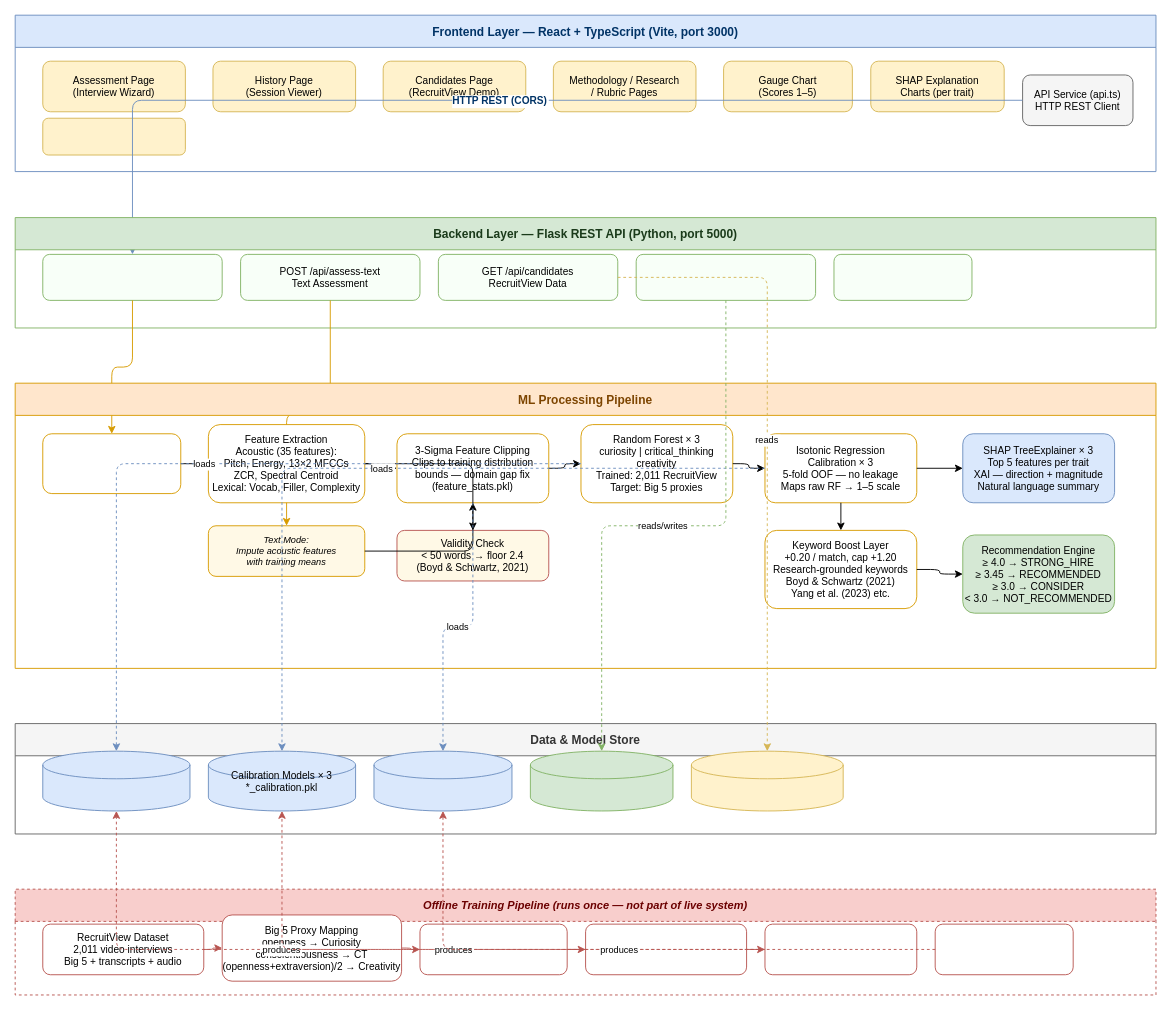
The diagram is 1171 pixels wide and 1010 high, and some of its shapes have lost their labels. Each missing label, with the centre of its shape:
Audio Recorder Component: the point at 113,136
feature_stats.pkl 3-sigma clip bounds 35 features: the point at 442,780
GET /api/health: the point at 902,276
GET|POST|DELETE /api/sessions: the point at 725,276
POST /api/assess-audio Voice Assessment: the point at 132,276
QuantileTransformer Uniform 1–5 distribution for Big 5 targets: the point at 493,949
recruitview_metadata.csv 2,011 candidates RF-predicted C3 scores: the point at 766,780
RF Models × 3 *_model_recruitview.pkl: the point at 116,780
save_feature_stats.py 3-sigma bounds for 35 features: the point at 1003,949
sessions.db (SQLite) Sessions + Responses Interview History: the point at 601,780
train_big5_proxy_models.py Random Forest 100 trees, max_depth=10: the point at 666,949
train_calibration.py Isotonic Regression 5-fold OOF CV: the point at 840,949
Whisper STT (OpenAI base model) Audio → Transcript: the point at 111,463
